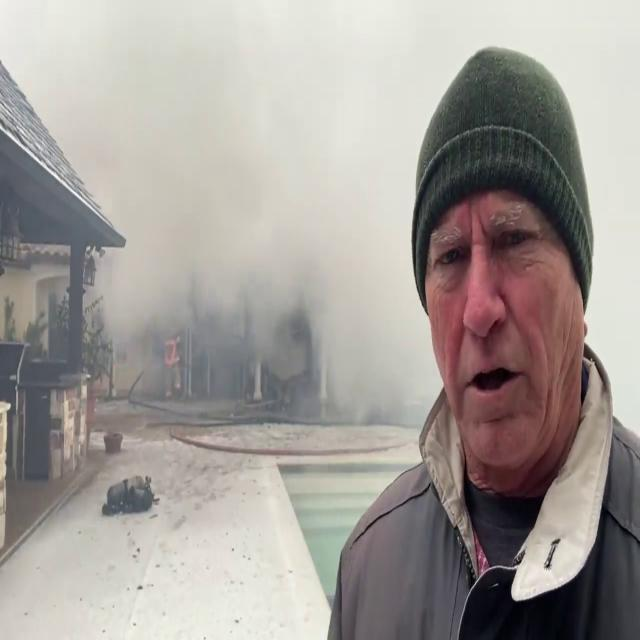Smoke: (95, 0, 438, 436)
